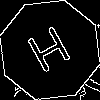H: (25, 25, 78, 82)
